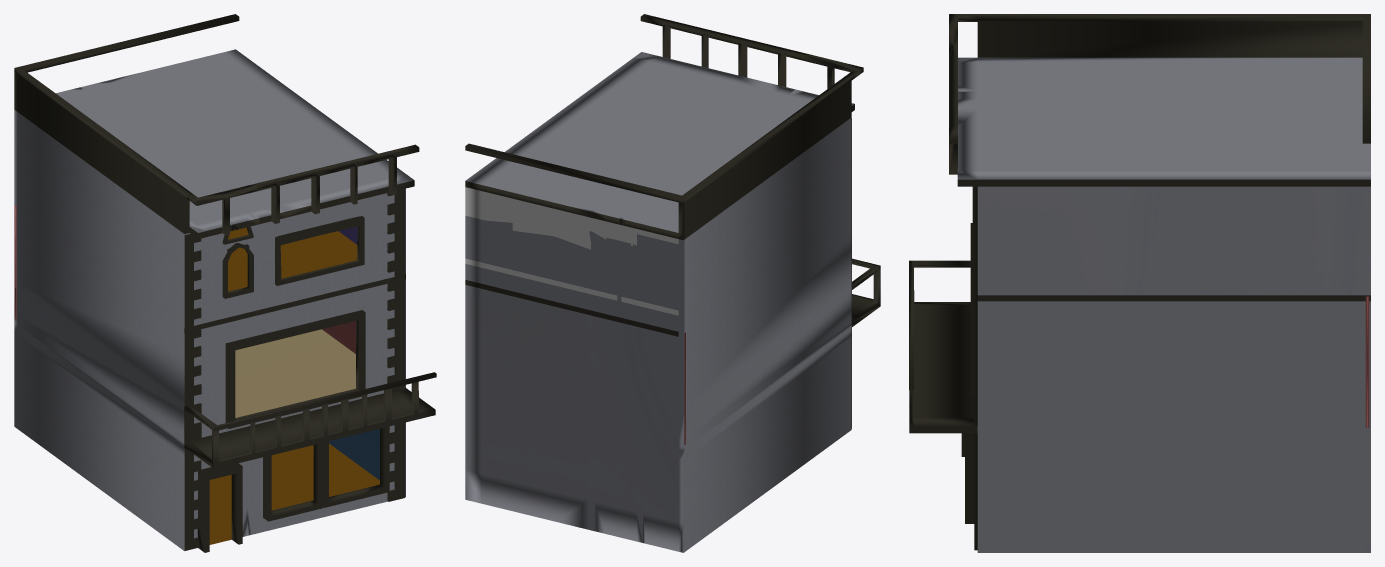
File: Buildinghalf.fbx
The picture shows the model from 3 angles, left to right: view 1: azimuth 30°, elevation 25°; view 2: azimuth 150°, elevation 25°; view 3: azimuth 270°, elevation 25°; orthographic projection. The views are drawn at different scales.
Visible parts, largest first — view 1: polySurface1620; view 2: polySurface1620; view 3: polySurface1620.
Boxes of the visible parts, left/top/right/bottom form: polySurface1620: left=14, top=14, right=436, bottom=552; polySurface1620: left=465, top=14, right=880, bottom=552; polySurface1620: left=909, top=14, right=1370, bottom=552.
Size of the model in its own units: 169 by 260 by 263.
